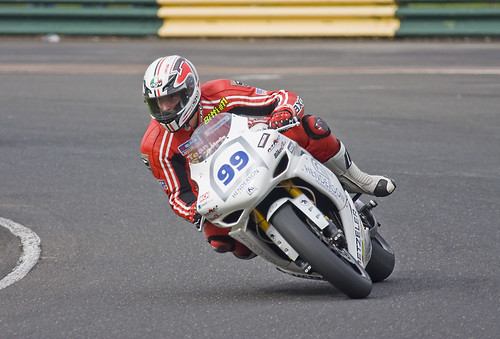helmet: (138, 49, 201, 132)
